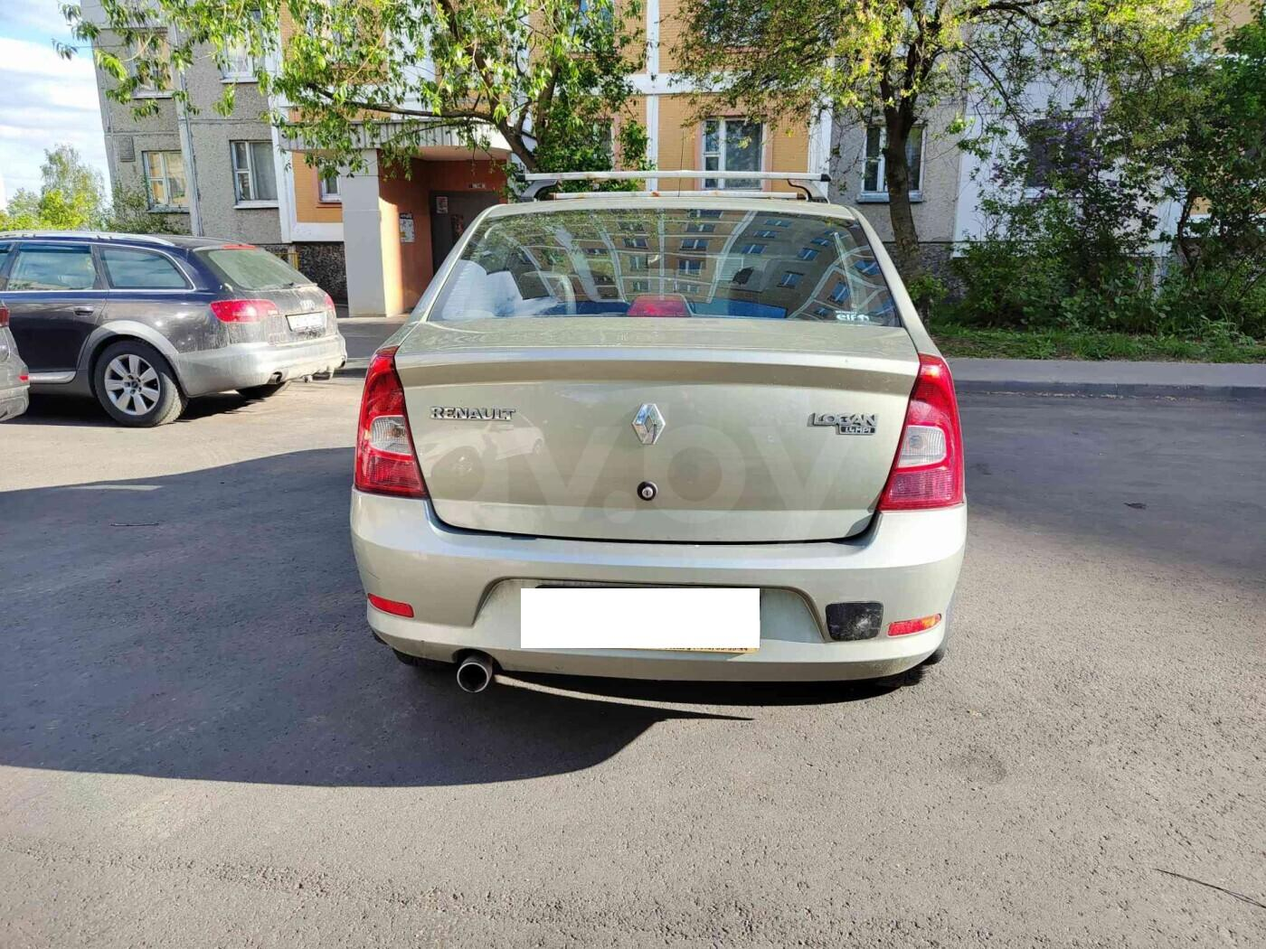Logan_2008-2015: (354, 179, 978, 740)
